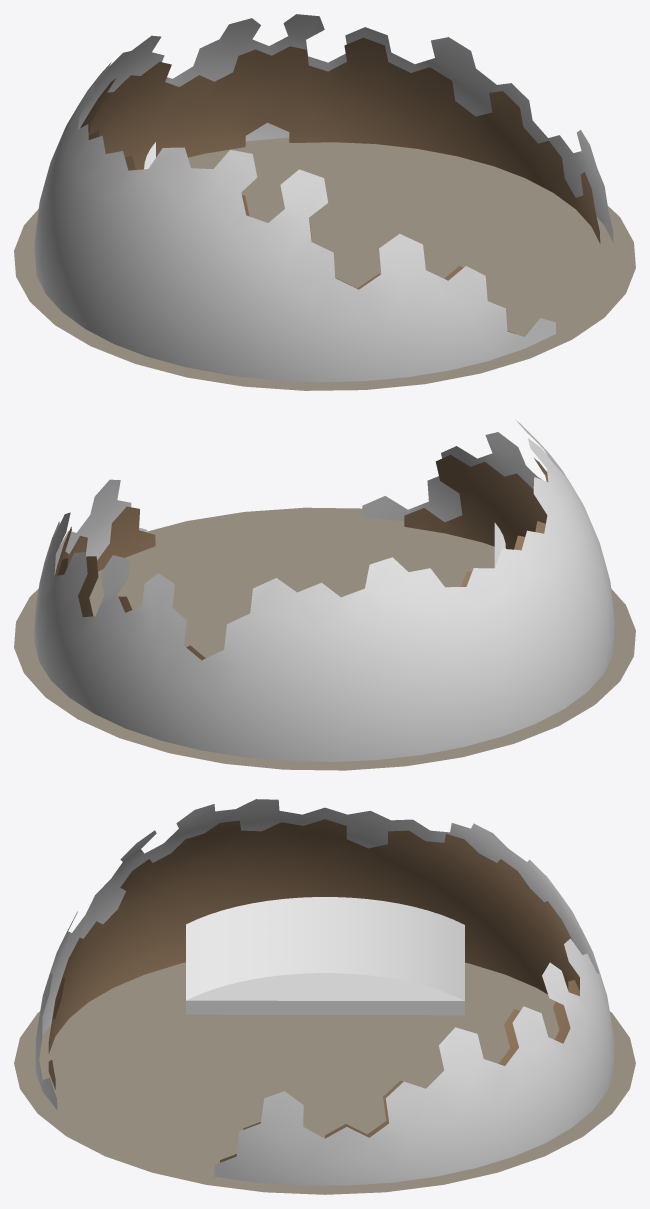
Rendered from BOD_VR_Test2.glb.
The picture shows the model from 3 angles, top to bottom: view 1: azimuth 30°, elevation 25°; view 2: azimuth 150°, elevation 25°; view 3: azimuth 270°, elevation 25°; orthographic projection.
Visible parts, largest first — view 1: Dome.002, 円, Dome.003; view 2: Dome.002, 円, Dome.003; view 3: 円, Dome.002, Dome.003, Screen.
Part boxes in pixels (x1=…): Dome.002: x1=34, y1=14, x2=613, y2=382; 円: x1=14, y1=137, x2=635, y2=390; Dome.003: x1=80, y1=37, x2=600, y2=333; Dome.002: x1=34, y1=419, x2=615, y2=761; 円: x1=14, y1=507, x2=635, y2=770; Dome.003: x1=55, y1=454, x2=548, y2=660; 円: x1=14, y1=962, x2=635, y2=1194; Dome.002: x1=35, y1=799, x2=614, y2=1185; Dome.003: x1=48, y1=819, x2=579, y2=1162; Screen: x1=186, y1=897, x2=464, y2=1015.
Size of the model in its own units: 2 by 0.6616 by 2.
